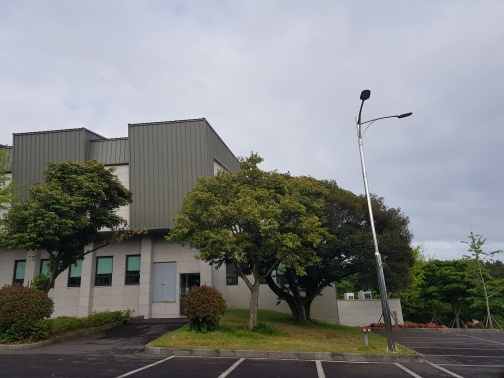Gym: (25, 110, 402, 333), (28, 231, 244, 334)
